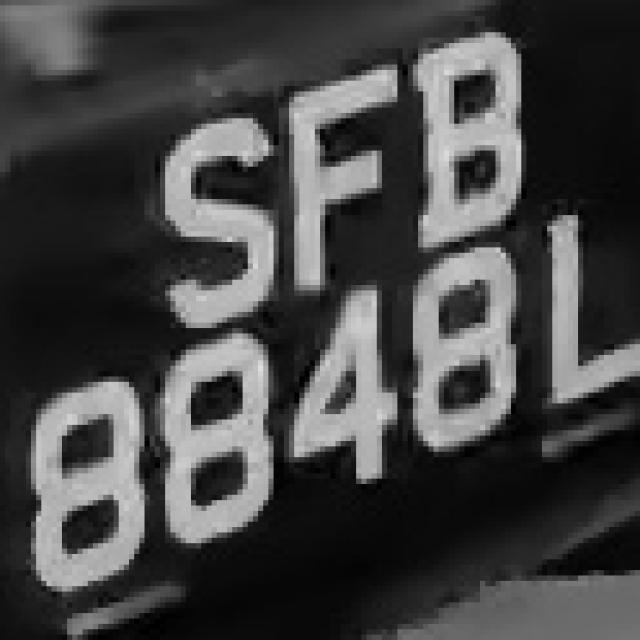4: (253, 306, 402, 506)
8: (140, 333, 274, 560), (20, 366, 144, 608), (413, 269, 526, 468)
B: (403, 27, 552, 247)
F: (284, 70, 413, 285)
L: (542, 199, 640, 409)
S: (124, 118, 284, 306)
